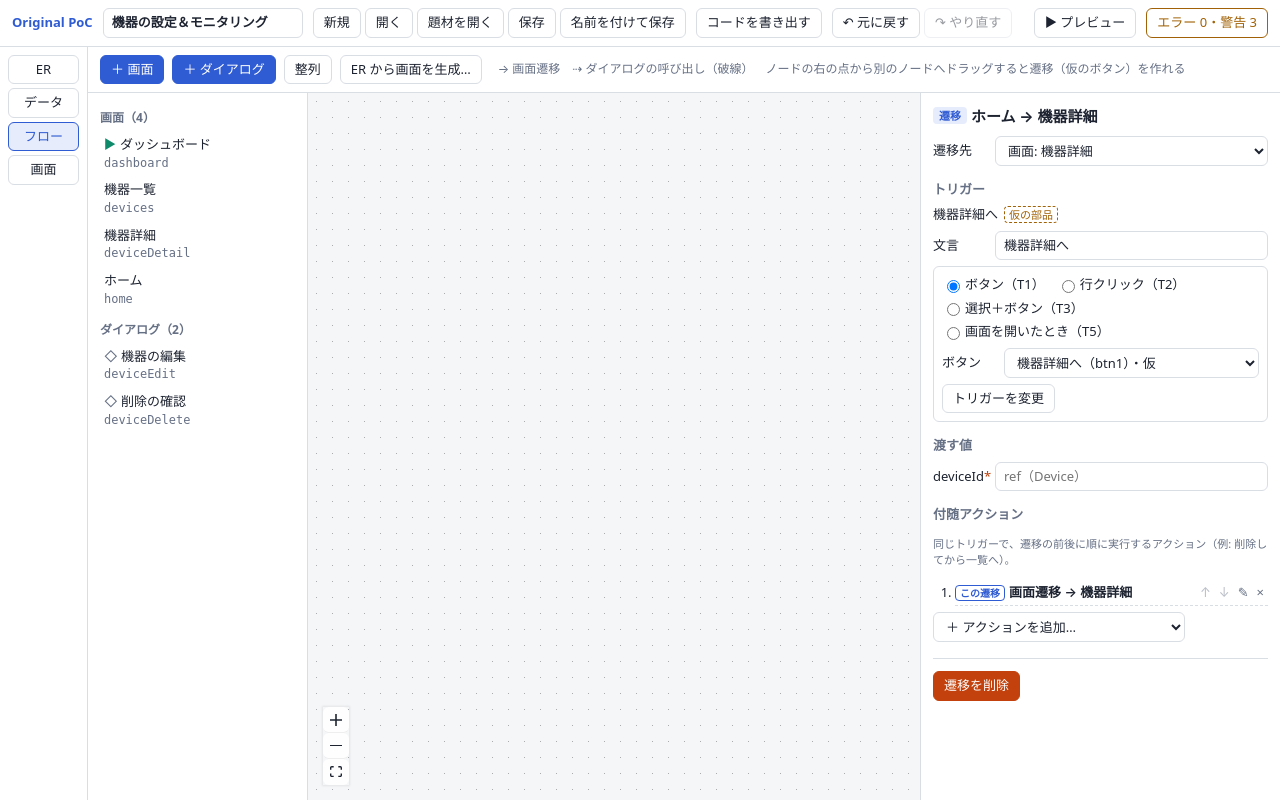
Test: 遷移パネル › トリガーを行クリック（新しい仮の表）にすると、表に移してパラメータを埋め、選び直す
Click the radio button labelled "行クリック（T2）" at (1068, 286), box [1062,280,1075,293]
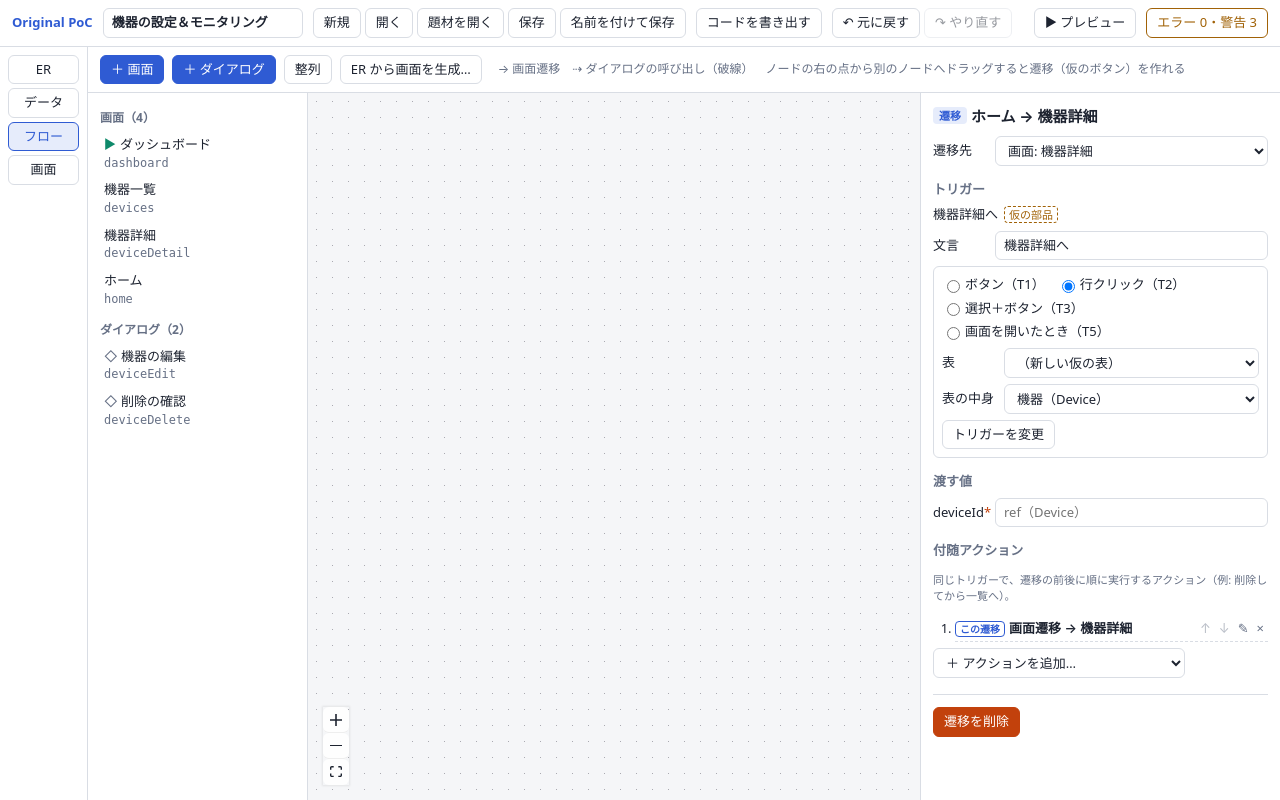
Select "（新しい仮の表）" in the dropdown named "トリガーの表" at (1132, 362), box [1004,348,1259,378]
Select "機器（Device）" in the dropdown named "トリガーのエンティティ" at (1132, 398), box [1004,384,1259,414]
Click the button "トリガーを変更" at (998, 434), box [942,420,1055,449]
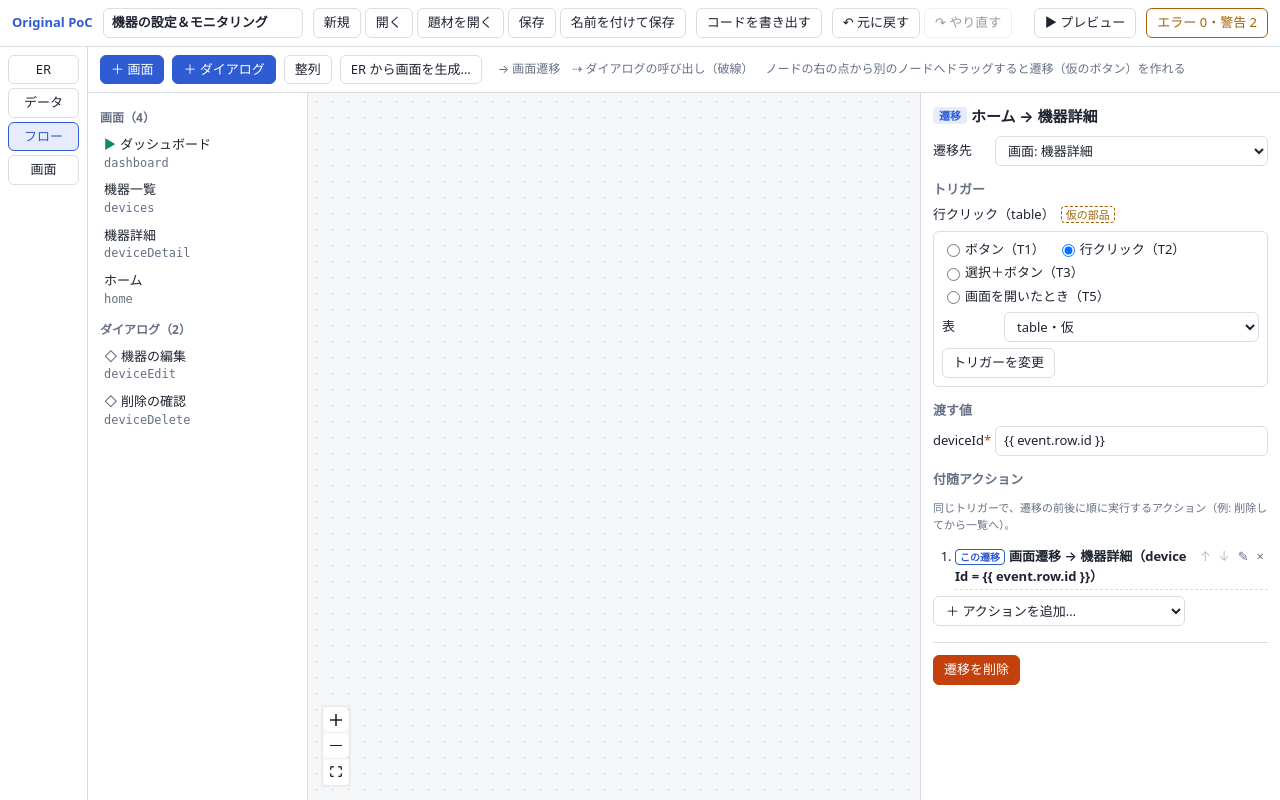
Expected: the field named "渡す値 deviceId" holds "{{ event.row.id }}", [995,426,1268,456]
